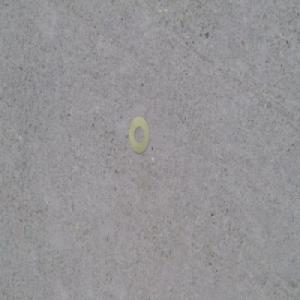Washer: (128, 116, 150, 155)
